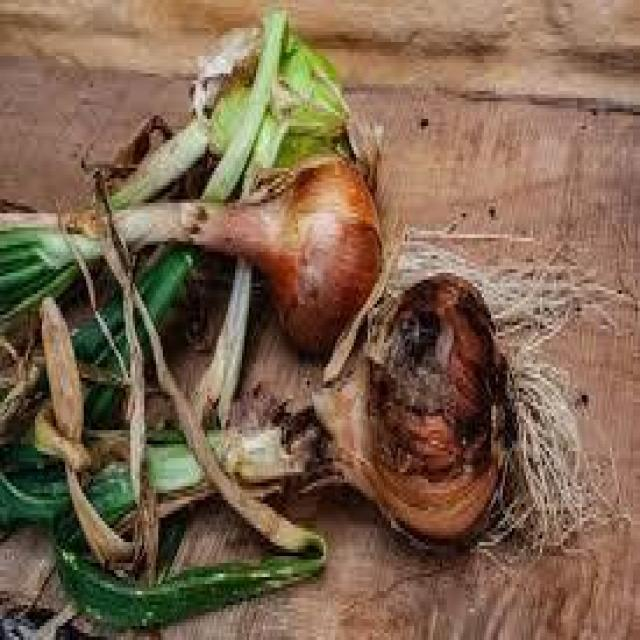Onion: (0, 119, 328, 640), (285, 276, 604, 560), (196, 10, 382, 164), (250, 154, 383, 360)
